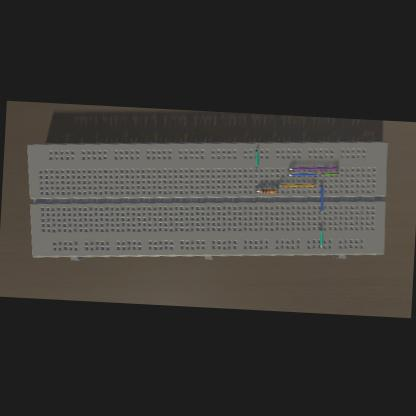breadboard: (20, 120, 389, 276)
resistor: (258, 186, 274, 192)
wire: (286, 164, 337, 172), (276, 180, 315, 186), (286, 170, 316, 176), (317, 183, 322, 211), (316, 226, 321, 245), (252, 148, 256, 169), (318, 170, 338, 174), (254, 189, 258, 190), (274, 189, 276, 190)
